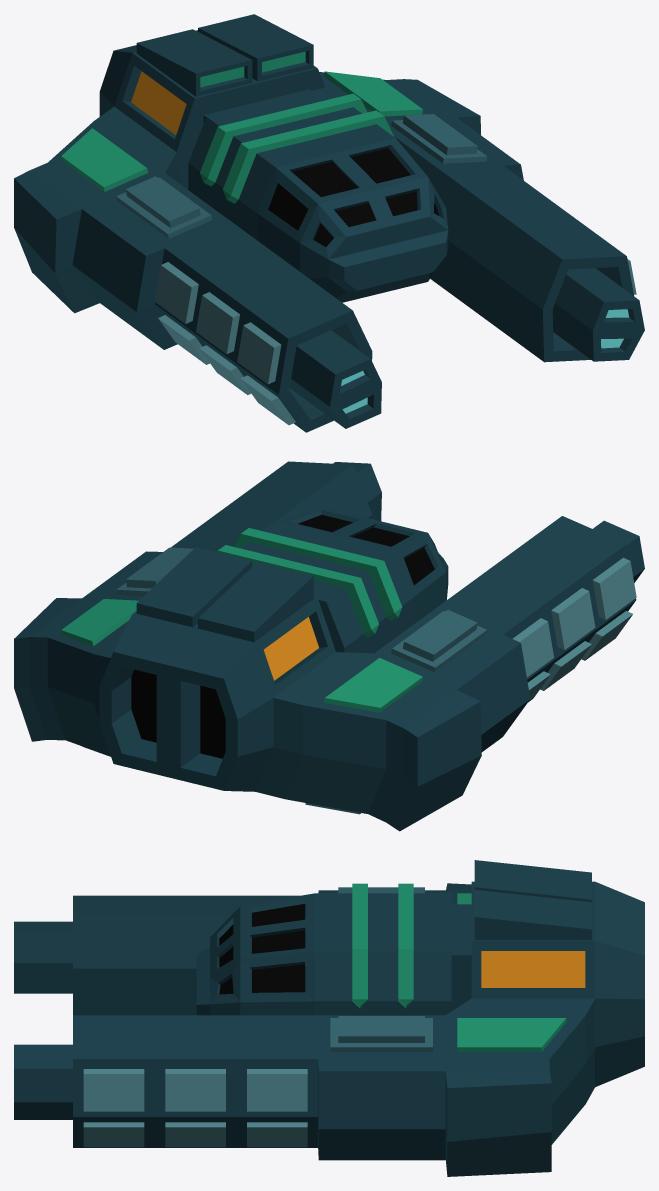
File: Salvager.glb
3 renders of one model, top to bottom at view 1: azimuth 30°, elevation 25°; view 2: azimuth 150°, elevation 25°; view 3: azimuth 270°, elevation 25°, orthographic.
Visible parts, largest first — view 1: Ship2; view 2: Ship2; view 3: Ship2.
Part boxes in pixels (left/top/right/bottom): Ship2: left=14, top=14, right=644, bottom=432; Ship2: left=14, top=461, right=644, bottom=831; Ship2: left=14, top=860, right=644, bottom=1176.
Size of the model in its own units: 7.12 by 3.14 by 9.21.
1 material, 1 textured.
